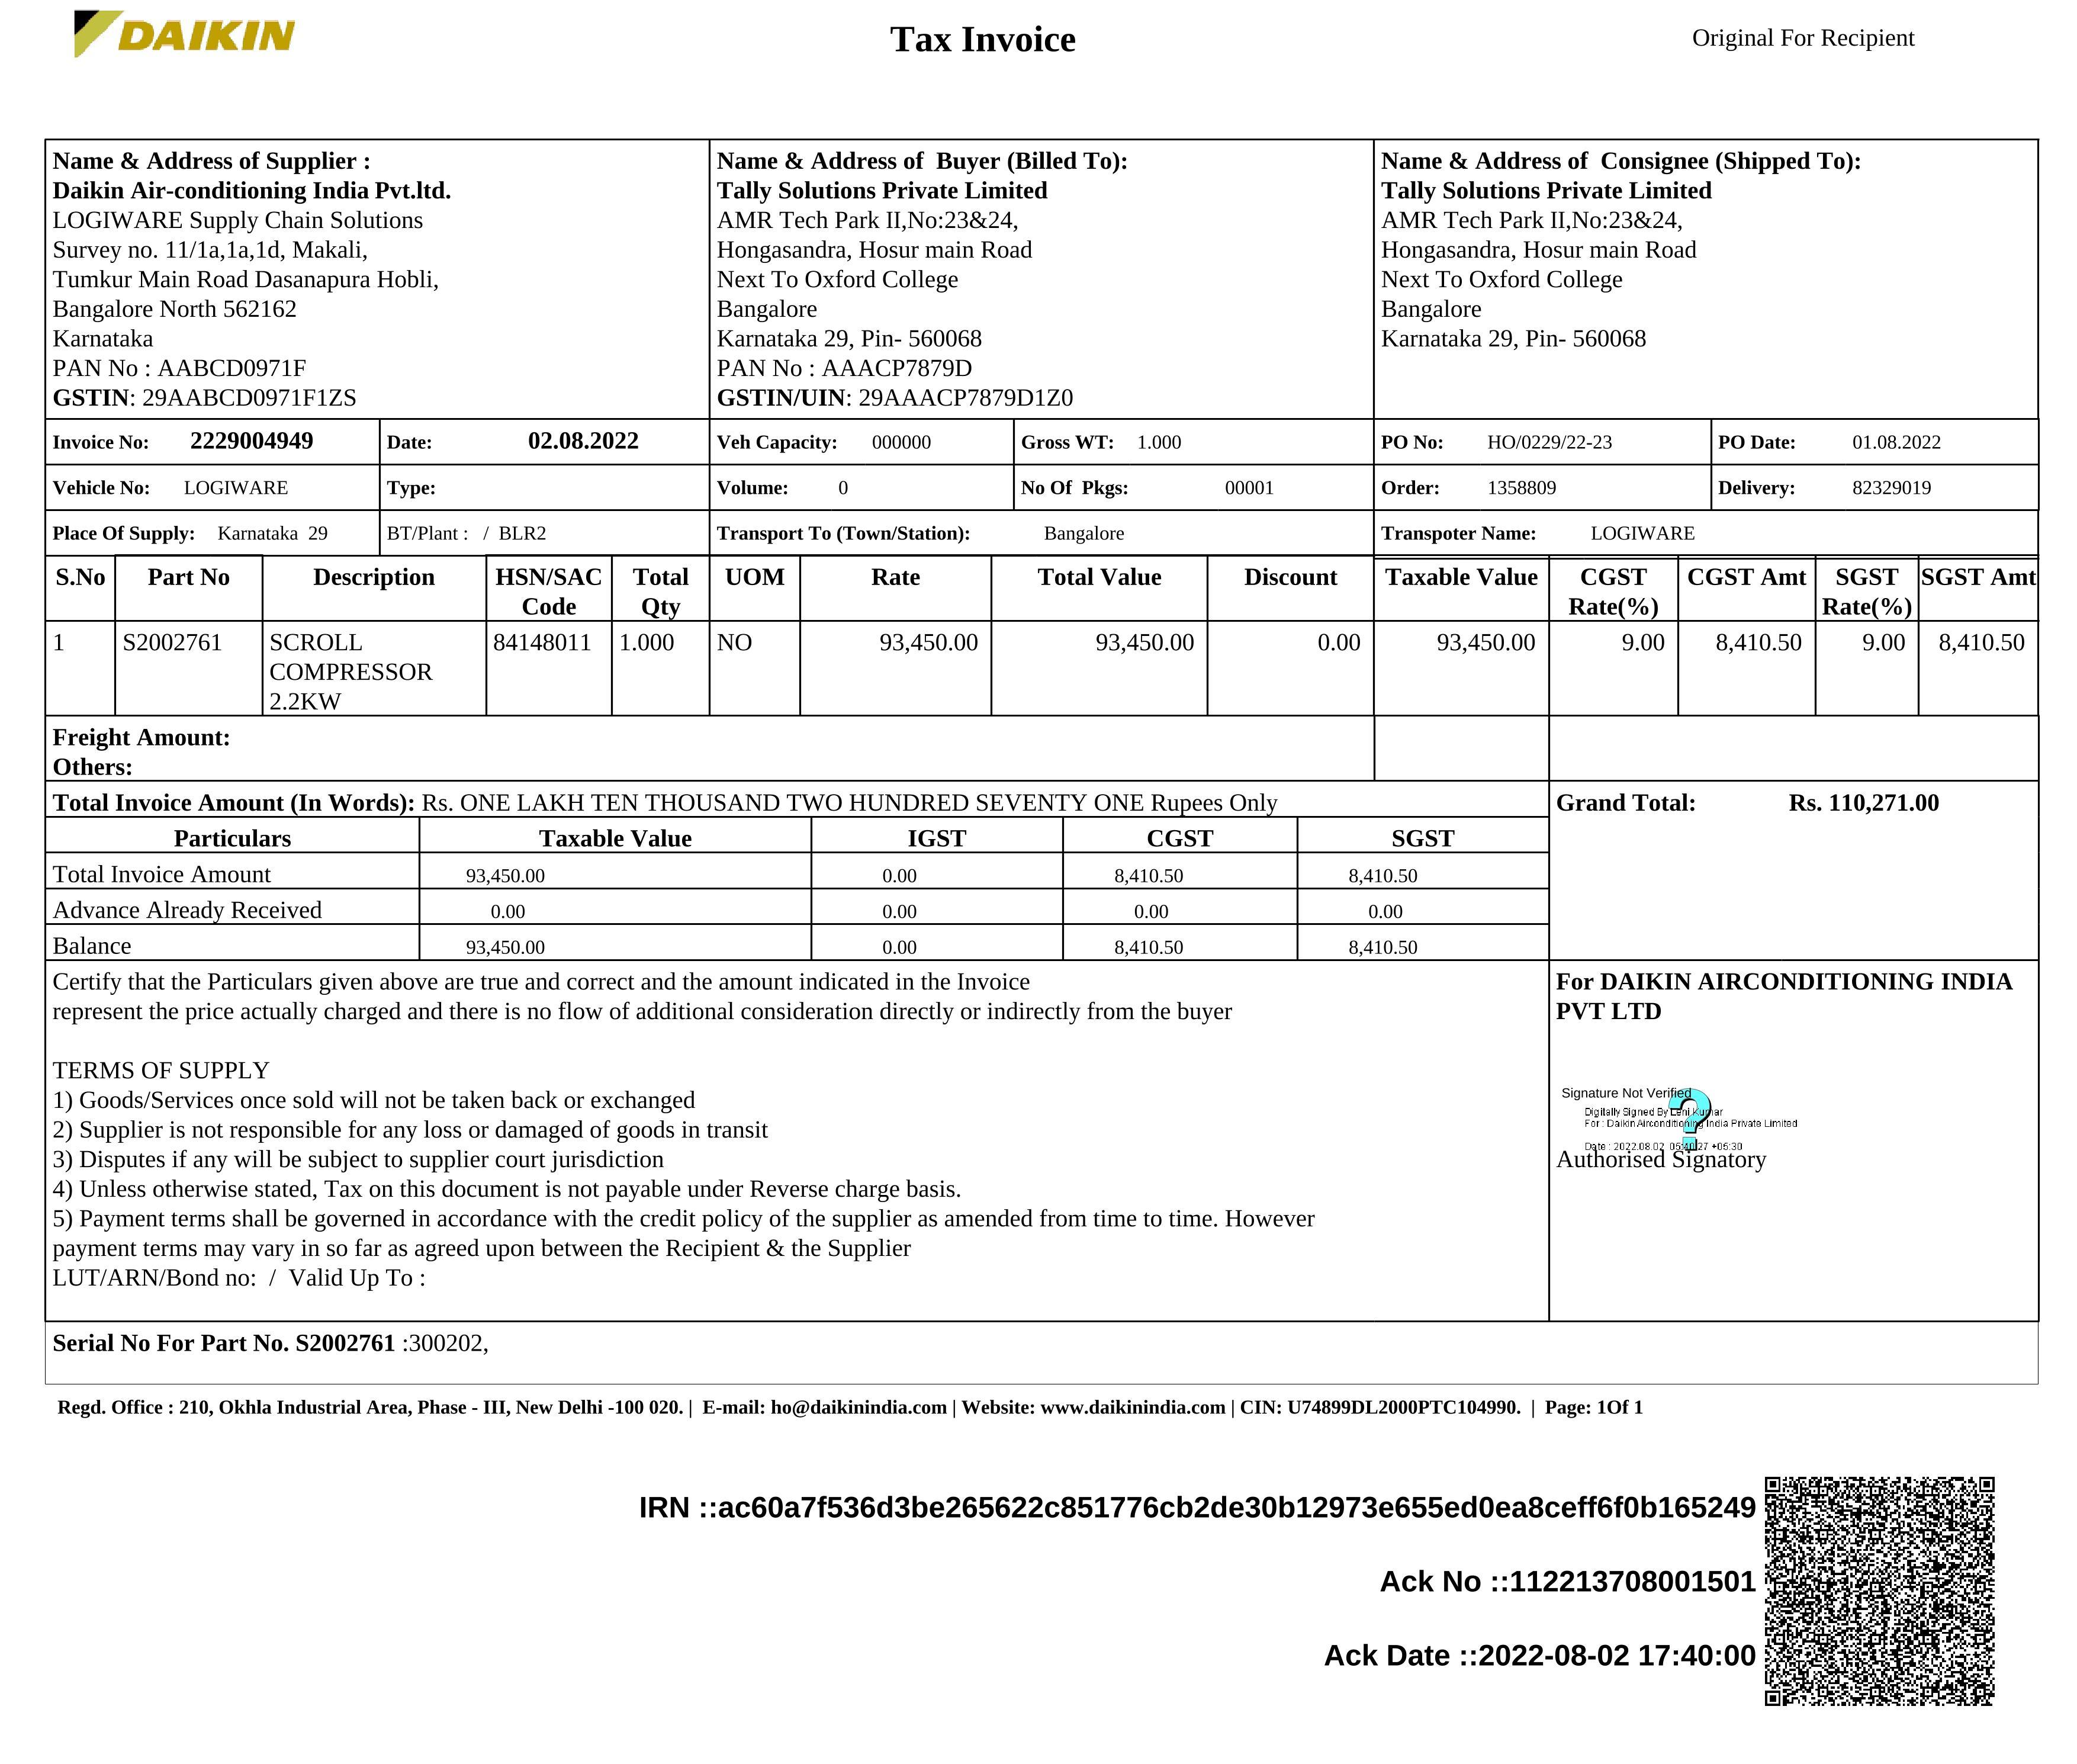InvoiceDate: (509, 420, 663, 462)
InvoiceNumber: (175, 423, 336, 460)
TotalAmount: (1767, 784, 1953, 824)
